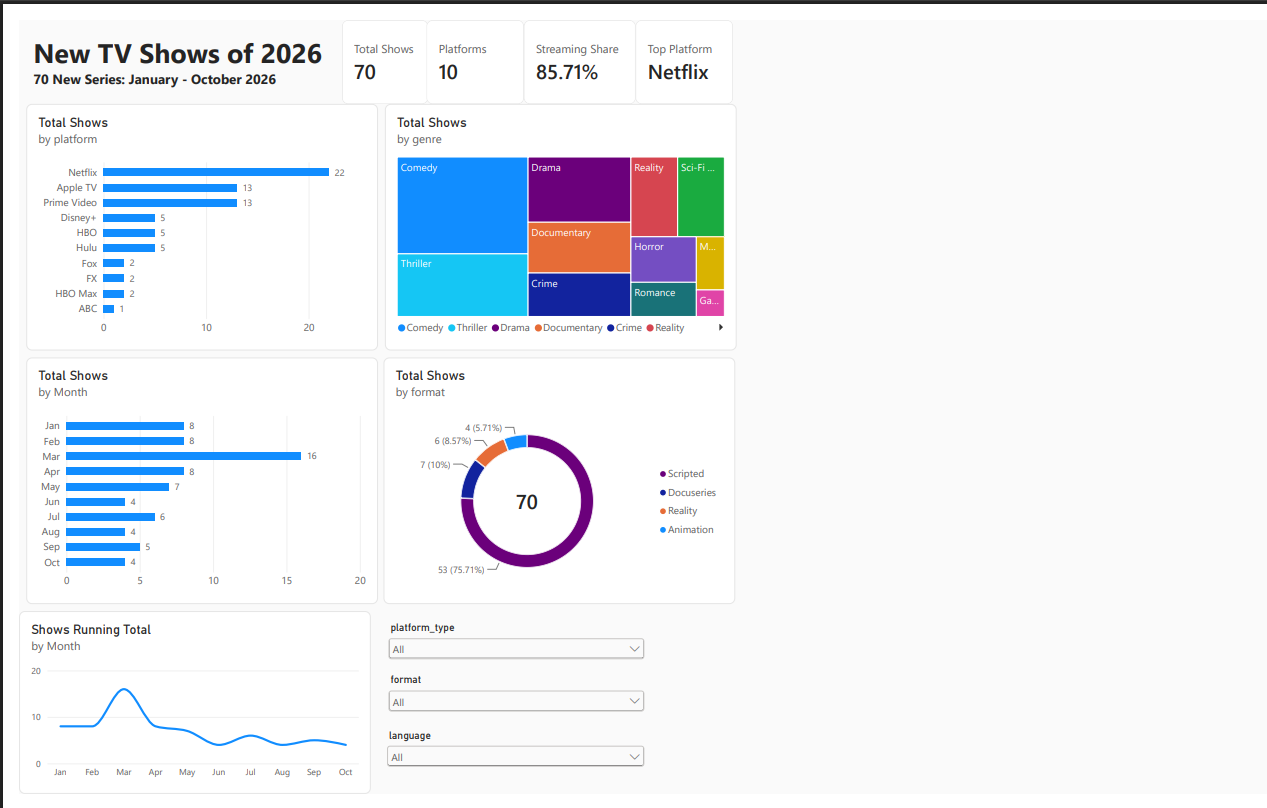

The page's visual inventory and layout, read from the dashboard file:
{"tool":"powerbi","page":{"name":"Page 1","canvas":[1920,1080],"ordinal":0},"visuals":[{"type":"cardVisual","fields":{"Data":["tv_shows_2026.Total Shows"]},"box":[451,0,120,117],"z":0},{"type":"cardVisual","fields":{"Data":["tv_shows_2026.Streaming Share"]},"box":[705,0,156,117],"z":1000},{"type":"cardVisual","fields":{"Data":["tv_shows_2026.Platforms"]},"box":[569,0,136,117],"z":2000},{"type":"cardVisual","fields":{"Data":["tv_shows_2026.Top Platform"]},"box":[861,0,136,117],"z":3000},{"type":"clusteredBarChart","fields":{"Category":["tv_shows_2026.platform"],"Y":["tv_shows_2026.Total Shows"]},"box":[10,117,491,344],"z":4000},{"type":"clusteredBarChart","fields":{"Category":["tv_shows_2026.Month"],"Y":["tv_shows_2026.Total Shows"]},"box":[10,471,491,344],"z":5000},{"type":"lineChart","fields":{"Category":["tv_shows_2026.Month"],"Y":["tv_shows_2026.Shows Running Total"]},"box":[0,825,491,255],"z":6000},{"type":"treemap","fields":{"Group":["tv_shows_2026.genre"],"Values":["tv_shows_2026.Total Shows"]},"box":[511,117,491,344],"z":7000},{"type":"donutChart","fields":{"Category":["tv_shows_2026.format"],"Y":["tv_shows_2026.Total Shows"]},"box":[509,471,491,344],"z":8000},{"type":"slicer","fields":{"Values":["tv_shows_2026.platform_type"]},"box":[511,840,367,74],"z":8001},{"type":"slicer","fields":{"Values":["tv_shows_2026.format"]},"box":[511,913,367,65],"z":8002},{"type":"slicer","fields":{"Values":["tv_shows_2026.language"]},"box":[509,990,369,53],"z":8003},{"type":"textbox","box":[20,20,434,75],"z":8004}]}

Visuals, with their boxes on the page's 1920x1080 design canvas (x1, y1, x2, y2). These are canvas units, not pixel positions in the 1267x808 screenshot, which may show the page scaled, cropped or inside an application window:
cardVisual - tv_shows_2026.Total Shows: Rect(451, 0, 571, 117)
cardVisual - tv_shows_2026.Streaming Share: Rect(705, 0, 861, 117)
cardVisual - tv_shows_2026.Platforms: Rect(569, 0, 705, 117)
cardVisual - tv_shows_2026.Top Platform: Rect(861, 0, 997, 117)
clusteredBarChart - tv_shows_2026.platform x tv_shows_2026.Total Shows: Rect(10, 117, 501, 461)
clusteredBarChart - tv_shows_2026.Month x tv_shows_2026.Total Shows: Rect(10, 471, 501, 815)
lineChart - tv_shows_2026.Month x tv_shows_2026.Shows Running Total: Rect(0, 825, 491, 1080)
treemap - tv_shows_2026.genre x tv_shows_2026.Total Shows: Rect(511, 117, 1002, 461)
donutChart - tv_shows_2026.format x tv_shows_2026.Total Shows: Rect(509, 471, 1000, 815)
slicer - tv_shows_2026.platform_type: Rect(511, 840, 878, 914)
slicer - tv_shows_2026.format: Rect(511, 913, 878, 978)
slicer - tv_shows_2026.language: Rect(509, 990, 878, 1043)
textbox: Rect(20, 20, 454, 95)
